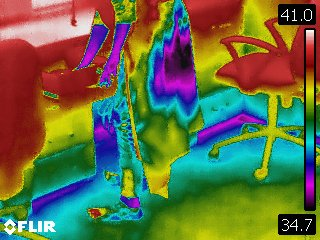human: (75, 1, 205, 221)
